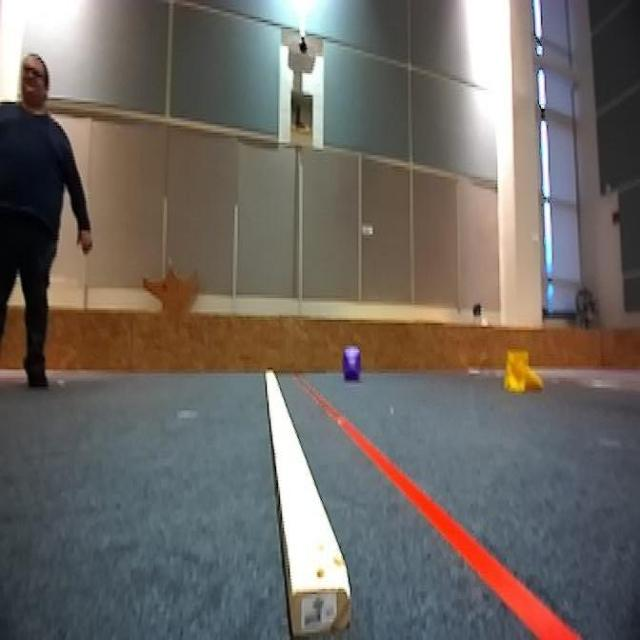frc_cone: (500, 351, 541, 396)
frc_cube: (340, 347, 364, 383)
